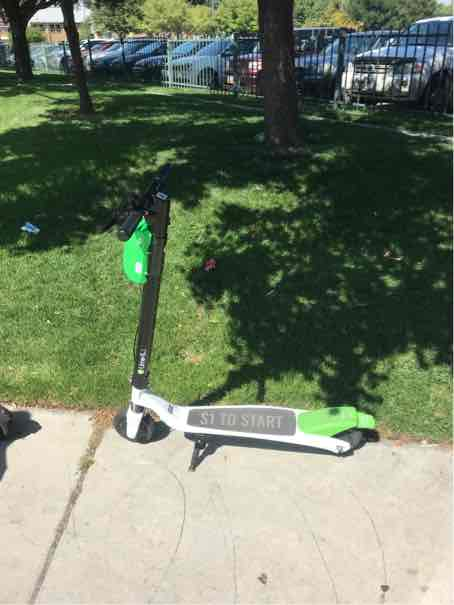scooter: (104, 135, 387, 466)
